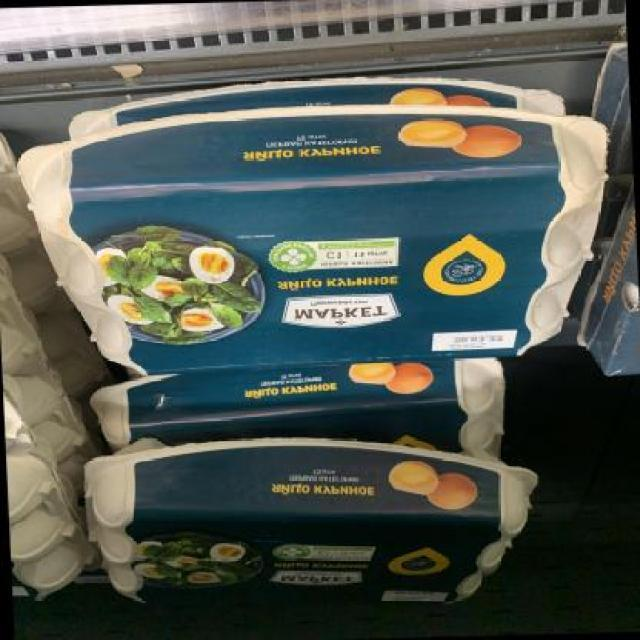egg: (14, 108, 617, 374), (85, 428, 544, 620), (90, 358, 513, 453)
